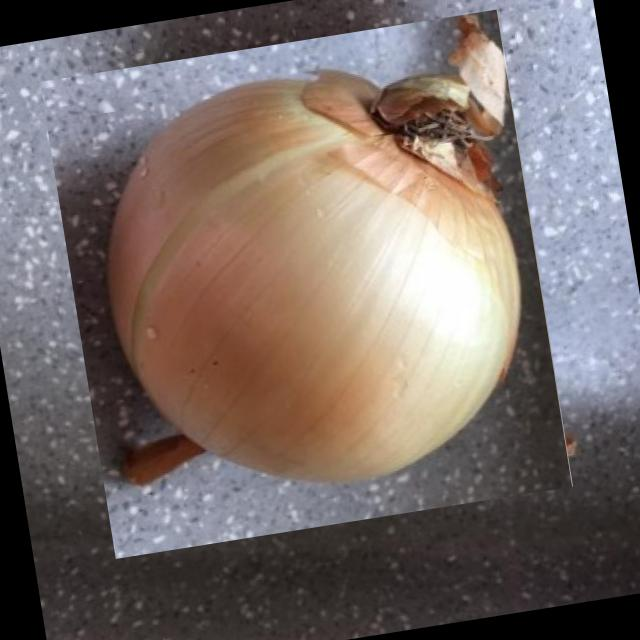Onion: (35, 13, 577, 555)
